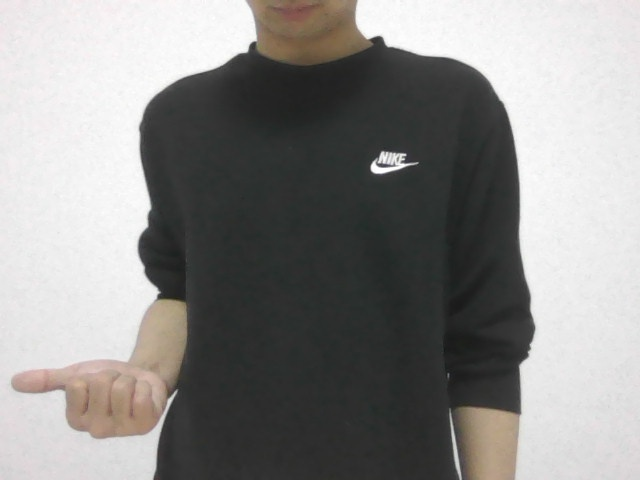have: (1, 352, 171, 440)
